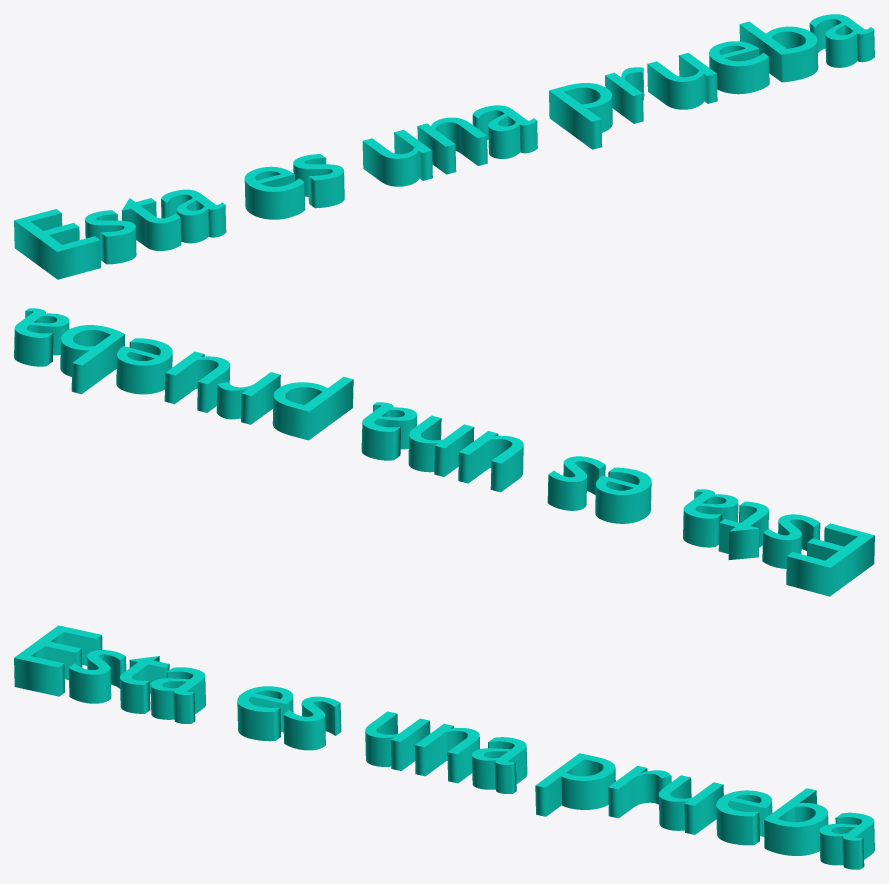
3 views of the same model, one above another, from view 1: azimuth 30°, elevation 25°; view 2: azimuth 150°, elevation 25°; view 3: azimuth 330°, elevation 25° (orthographic). The views are drawn at different scales.
Visible parts, largest first — view 1: Texto; view 2: Texto; view 3: Texto.
Part boxes in pixels (x1,y1,x2,y2): Texto: (14, 14, 874, 279); Texto: (14, 308, 874, 596); Texto: (14, 625, 874, 869).
Size of the model in its own units: 306 by 37.24 by 17.7.
